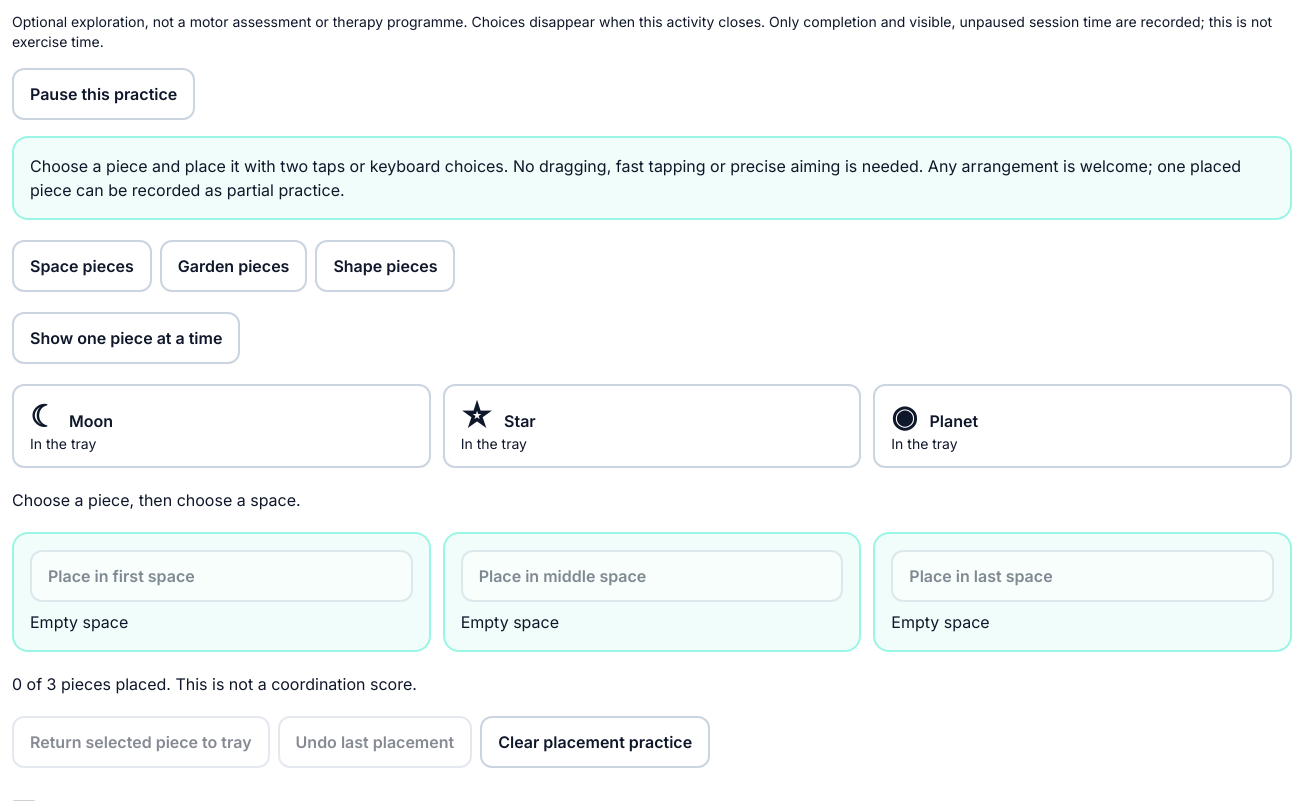
Test case: Dyspraxia fine motor placement › arrangements allow shared spaces without correctness scoring
Click the button with aria-label "Choose Moon".
click(91, 421)  # box [12,384,431,468]
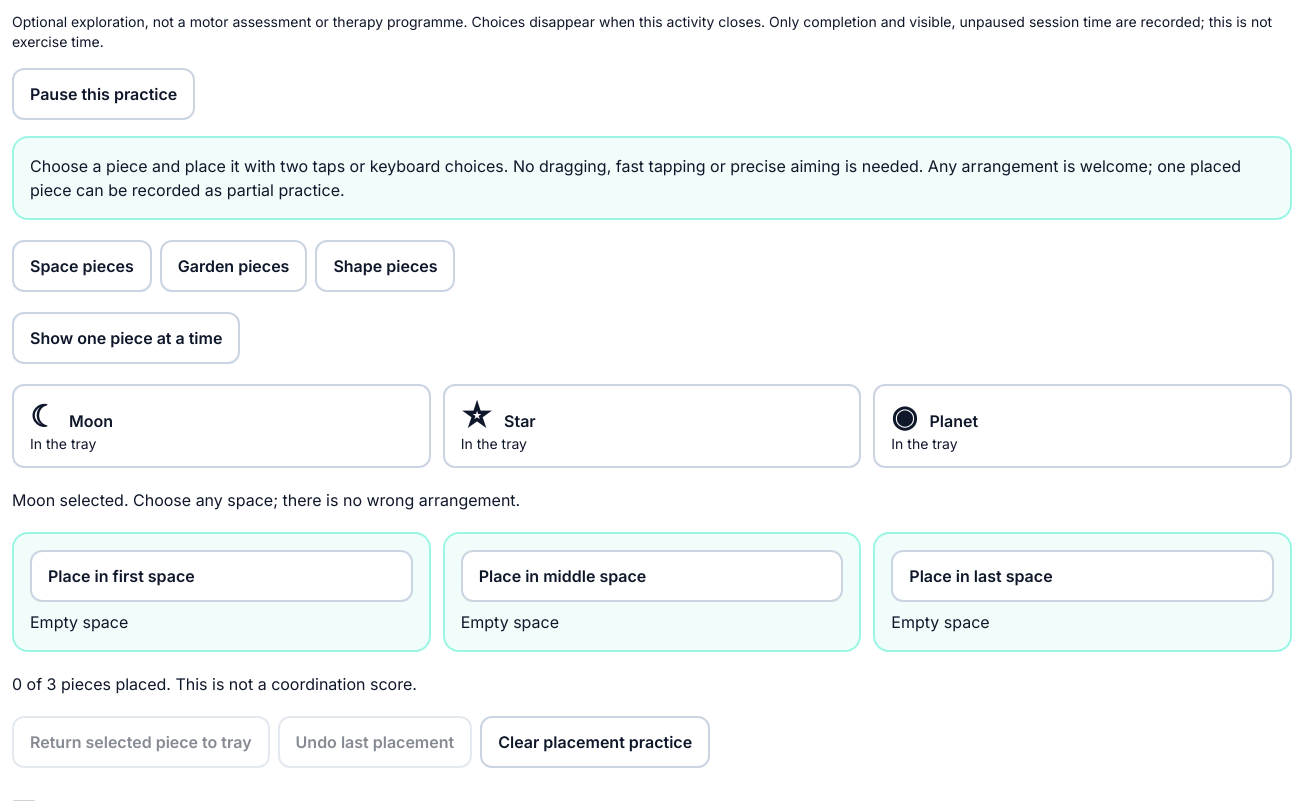
Click the button "Place in middle space".
click(511, 576)  # box [461,550,843,602]
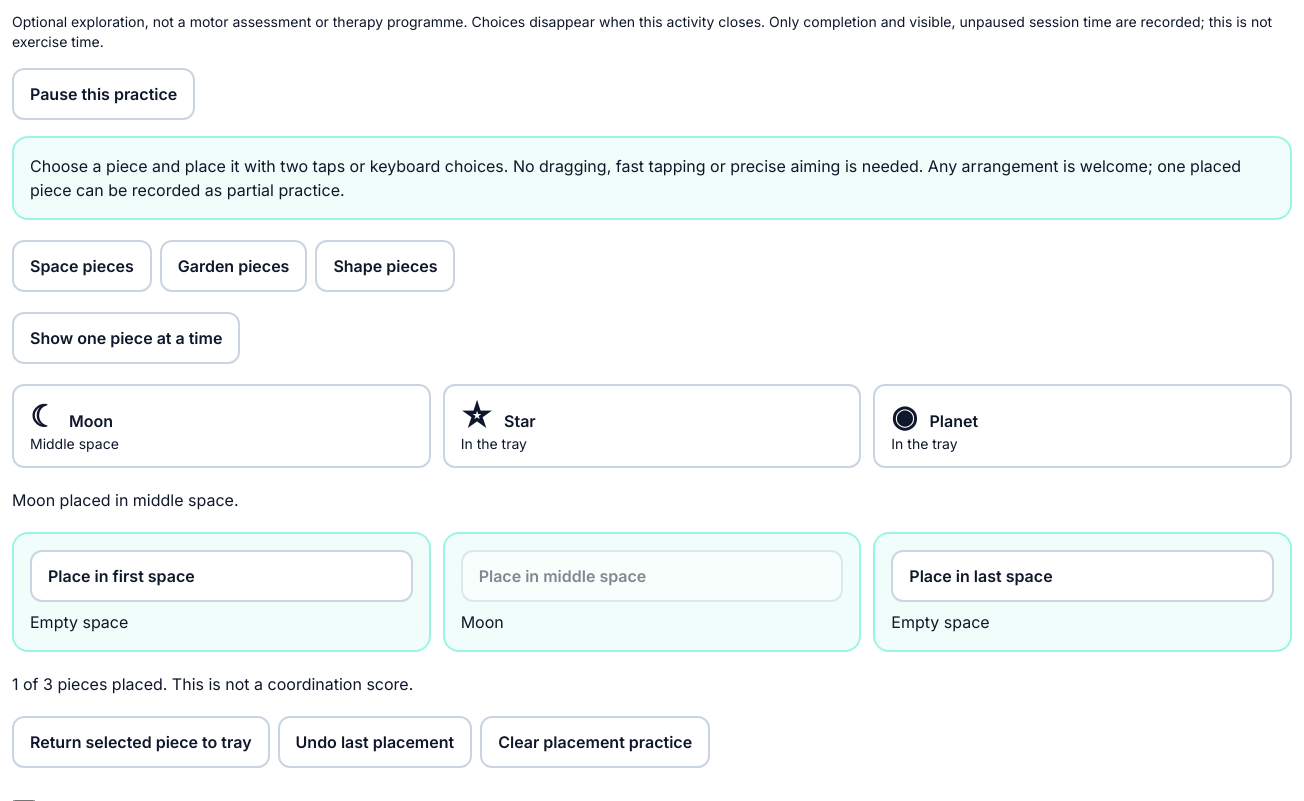
Click the button with aria-label "Choose Star".
click(476, 416)  # box [443,384,861,468]
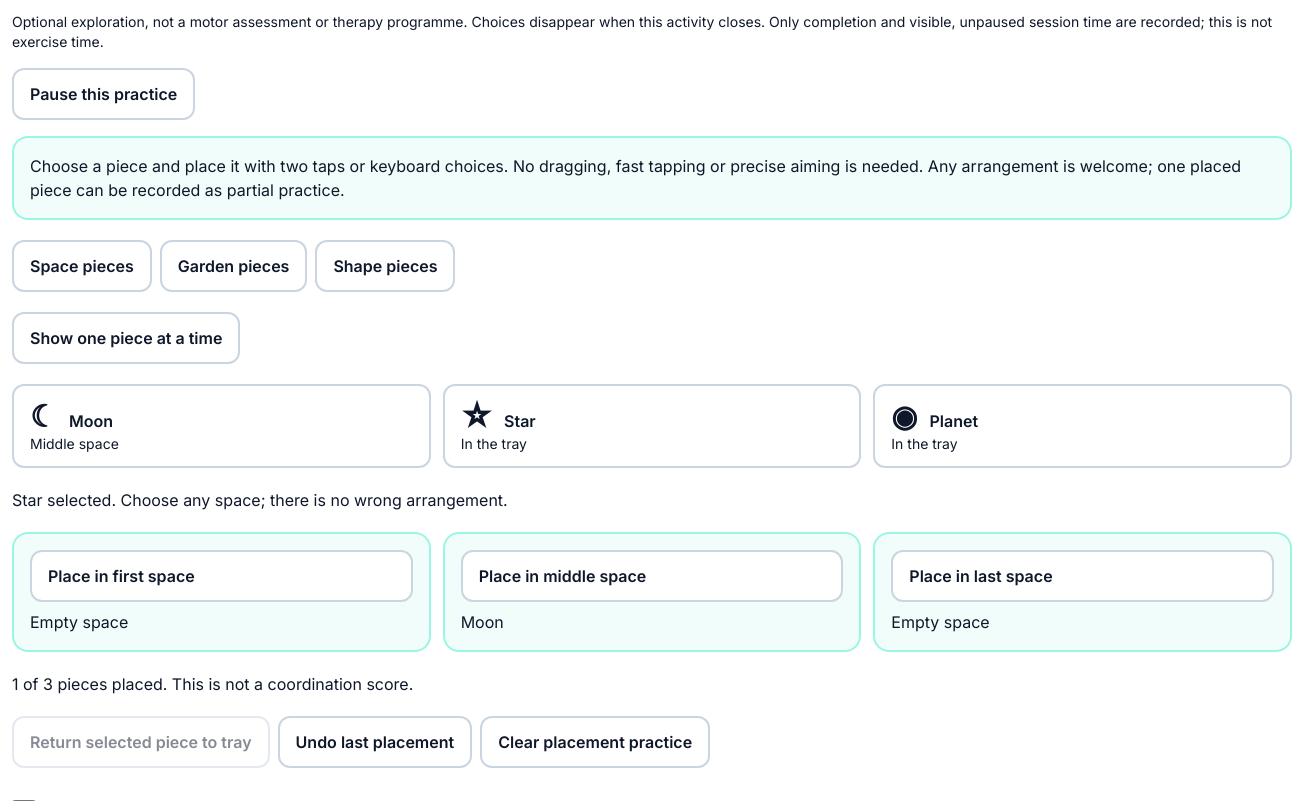
Click the button "Place in middle space".
click(511, 576)  # box [461,550,843,602]
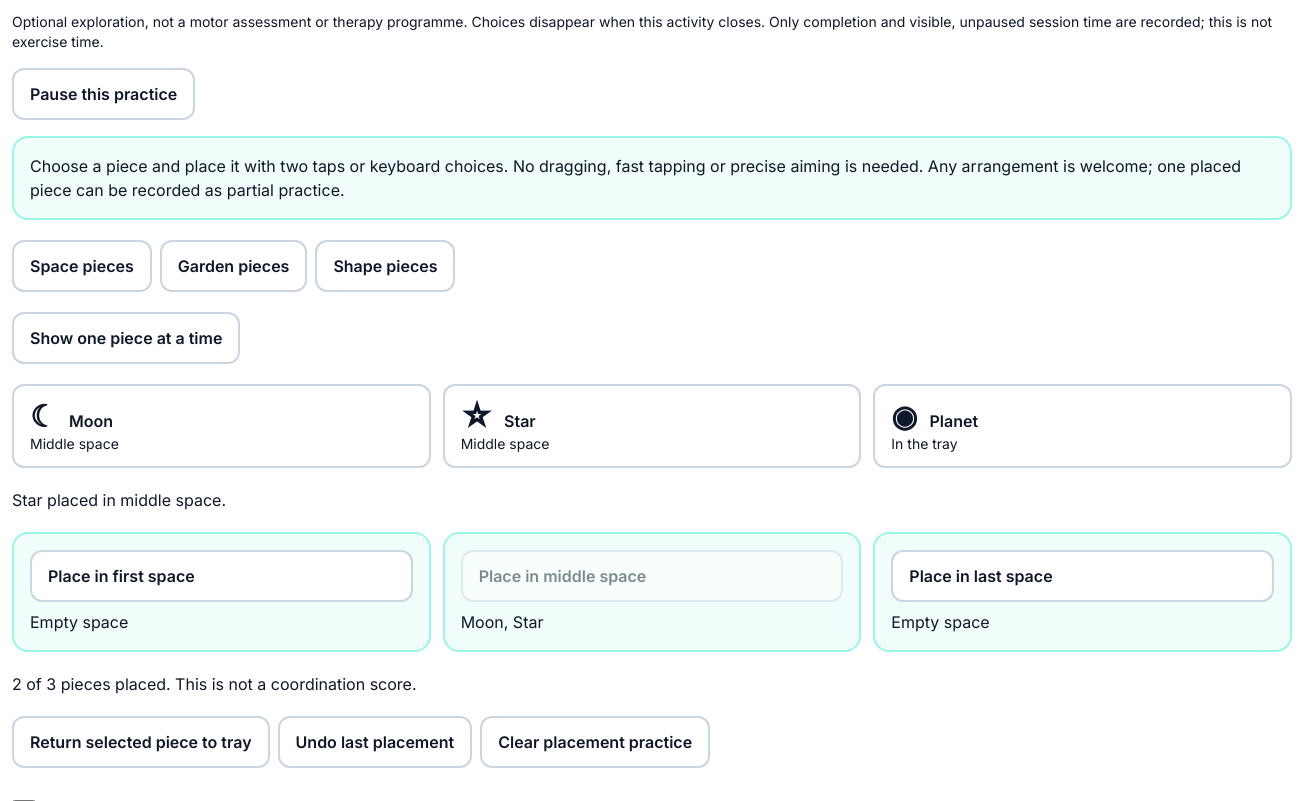
Result: the text with test id "motor-space-1" reads "Moon, Star" at [461,612,544,632]
Result: the text "2 of 3 pieces placed. This is not a coordination score." is shown at [12,674,416,694]
